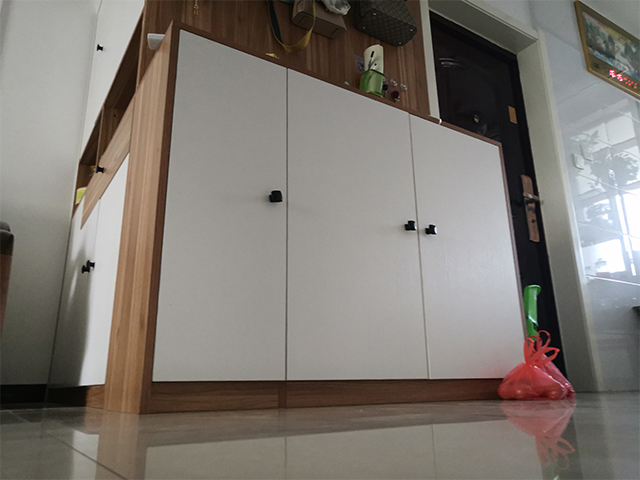cabinet: (144, 27, 533, 417)
